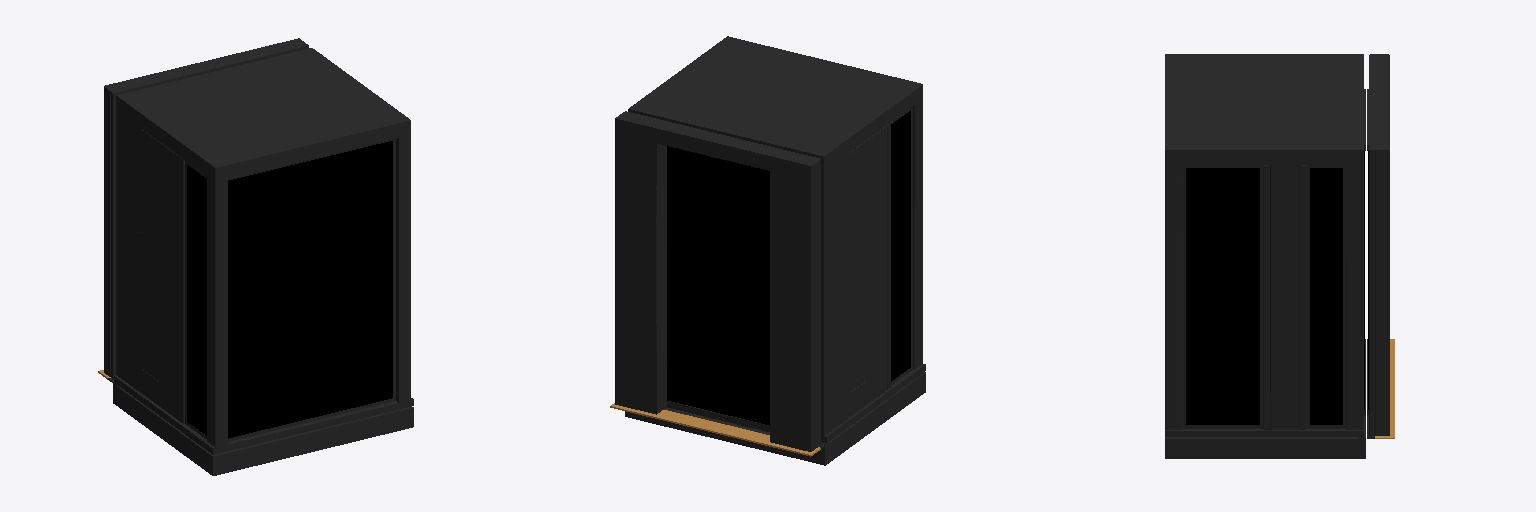
Rendered from lift_model.obj.
The picture shows the model from 3 angles: view 1: azimuth 30°, elevation 25°; view 2: azimuth 150°, elevation 25°; view 3: azimuth 270°, elevation 25°; orthographic projection.
Visible parts, largest first — view 1: Rectangle0_6, Box004_20, Rectangle1_0, Rectangle9_24, Box006_35, Rectangle2_9, Rectangle7_21, Line001_4, Line002_5, Line003_7, Line004_8; view 2: Box006_35, Box004_20, Rectangl21_26, Rectangl19_26, Rectangle1_0, Rectangle2_9, Rectangle9_24, Floor_Obj0_34, Rectangle7_21, Line003_7; view 3: Box004_20, Rectangle4_13, Box006_35, Rectangle3_11, Rectangle9_24, Rectangle1_0, Line007_14, Line006_12, Rectangle7_21, Line005_10, Line008_15, Floor_Obj0_34.
Boxes of the visible parts, x1,y1,x2,y2 form: Rectangle0_6: [229, 142, 390, 436]; Box004_20: [116, 48, 410, 447]; Rectangle1_0: [142, 130, 184, 423]; Rectangle9_24: [113, 384, 413, 475]; Box006_35: [104, 38, 308, 379]; Rectangle2_9: [189, 166, 206, 433]; Rectangle7_21: [114, 375, 413, 454]; Line001_4: [228, 139, 395, 441]; Line002_5: [228, 141, 392, 438]; Line003_7: [185, 161, 206, 438]; Line004_8: [187, 165, 206, 435]; Box006_35: [615, 111, 820, 451]; Box004_20: [628, 36, 922, 435]; Rectangl21_26: [667, 146, 723, 413]; Rectangl19_26: [724, 160, 769, 425]; Rectangle1_0: [849, 123, 890, 416]; Rectangle2_9: [891, 111, 909, 379]; Rectangle9_24: [625, 372, 925, 465]; Floor_Obj0_34: [610, 403, 820, 456]; Rectangle7_21: [821, 364, 925, 443]; Line003_7: [891, 107, 912, 384]; Box004_20: [1165, 54, 1363, 429]; Rectangle4_13: [1187, 169, 1257, 423]; Box006_35: [1369, 54, 1389, 435]; Rectangle3_11: [1312, 169, 1340, 423]; Rectangle9_24: [1165, 437, 1365, 458]; Rectangle1_0: [1263, 165, 1306, 429]; Line007_14: [1183, 165, 1262, 428]; Line006_12: [1307, 165, 1345, 428]; Rectangle7_21: [1165, 429, 1363, 436]; Line005_10: [1310, 168, 1342, 424]; Line008_15: [1186, 168, 1259, 424]; Floor_Obj0_34: [1375, 339, 1394, 438].
Size of the model in its own units: 630 by 922 by 624.